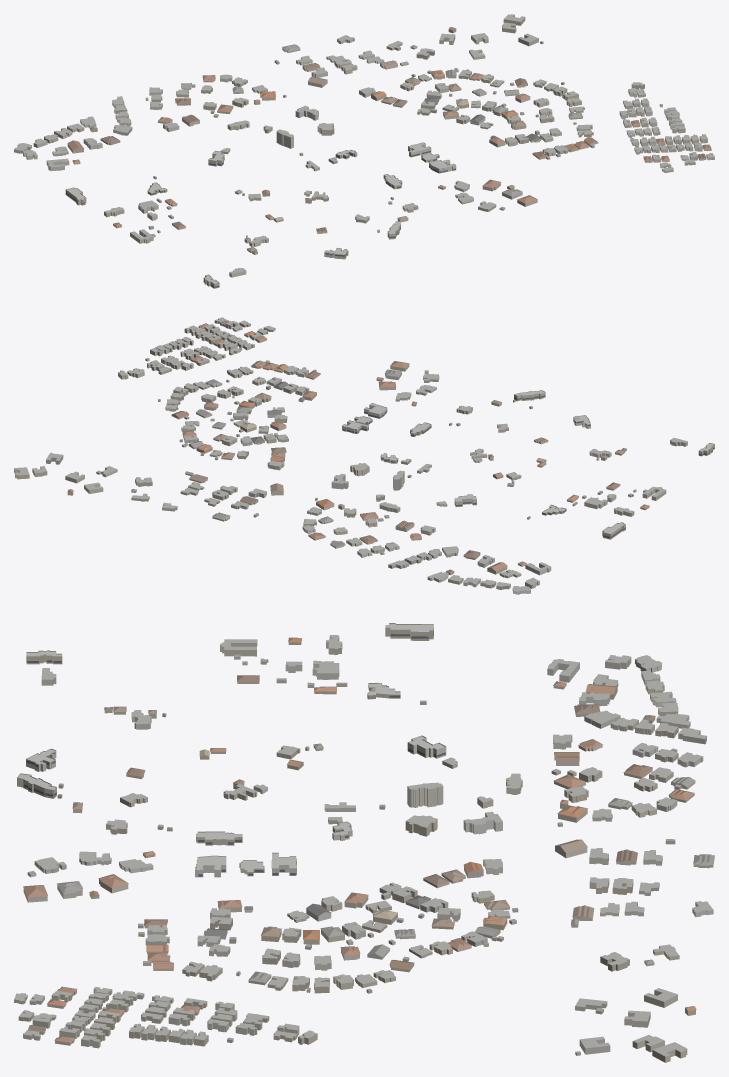
File: buildings_r3_c1.glb
3 views of the same model, one above another, from view 1: azimuth 30°, elevation 25°; view 2: azimuth 150°, elevation 25°; view 3: azimuth 270°, elevation 25° (orthographic). The views are drawn at different scales.
Parts seen in each view (by area): view 1: buildings_r3_c1; view 2: buildings_r3_c1; view 3: buildings_r3_c1.
Part boxes in pixels (x1,y1,x2,y2): buildings_r3_c1: (14,14,714,288); buildings_r3_c1: (14,317,714,594); buildings_r3_c1: (14,623,714,1062).
Bounding box in the file's own units: 1140 × 47.06 × 800.
